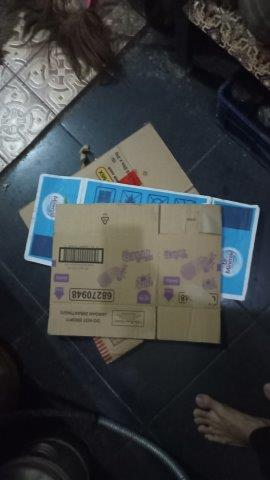kardus: (21, 125, 259, 362)
